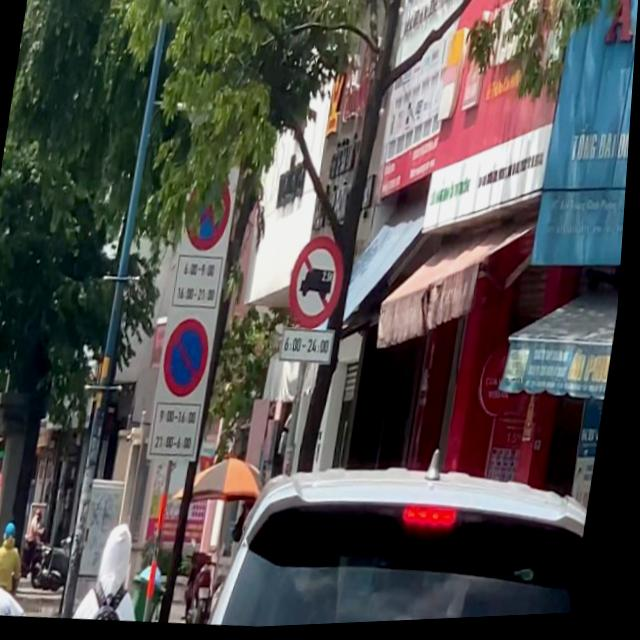Cam do xe: (160, 312, 223, 404)
Cam xe tai tren 2_5: (288, 234, 356, 334)
